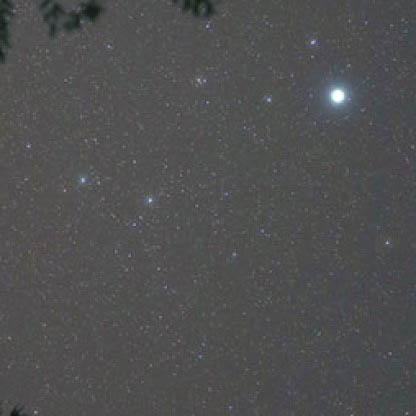Lyra: (325, 77, 350, 112), (188, 71, 209, 95), (257, 88, 280, 109), (306, 32, 327, 55), (137, 188, 158, 210), (71, 167, 88, 192)
